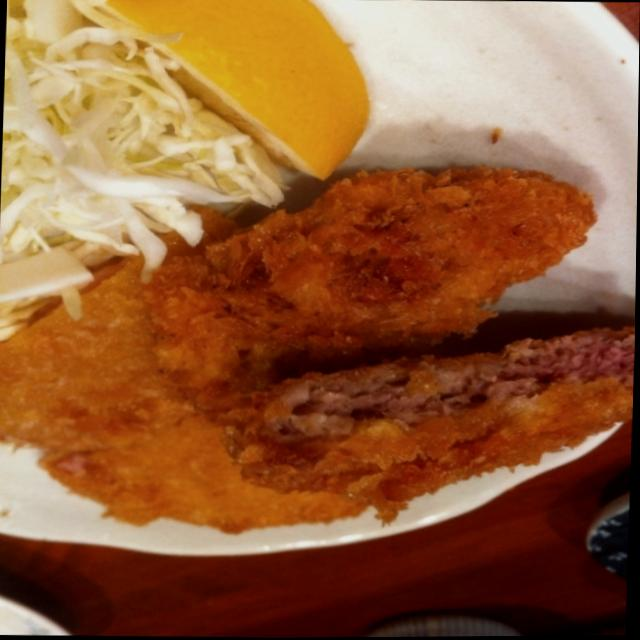炸货点心: (0, 117, 637, 558)
